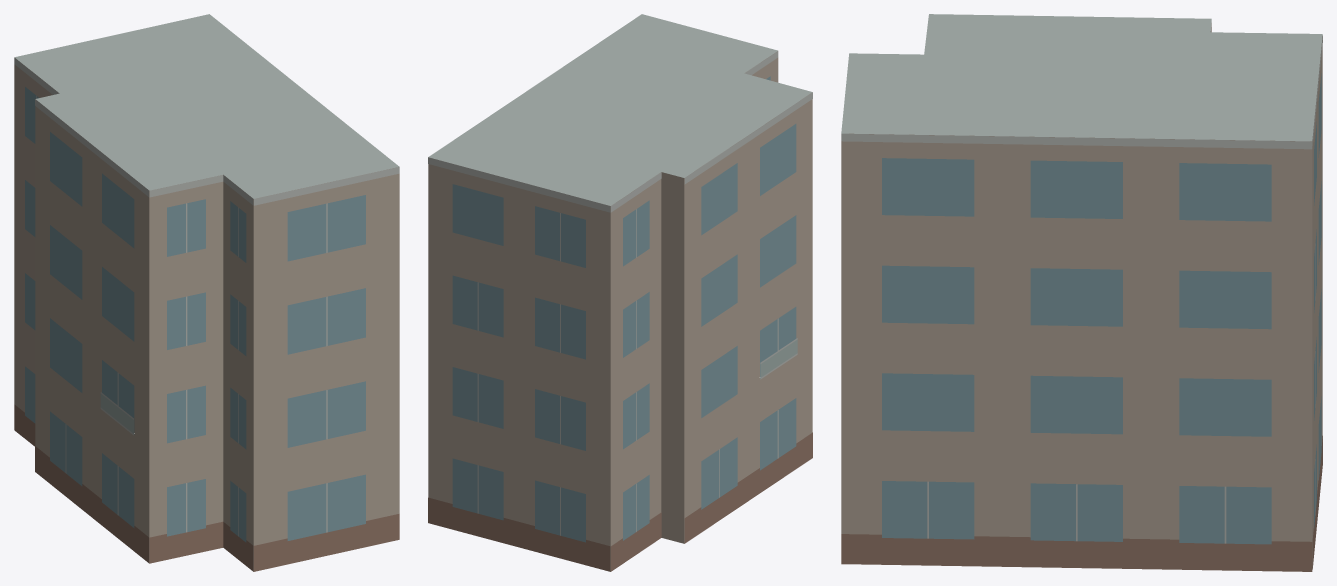
The model's file is survey-upis-32519699.glb.
3 renders of one model, left to right at view 1: azimuth 30°, elevation 25°; view 2: azimuth 150°, elevation 25°; view 3: azimuth 270°, elevation 25°, orthographic. The views are drawn at different scales.
Parts seen in each view (by area): view 1: survey-upis-32519699.tmp; view 2: survey-upis-32519699.tmp; view 3: survey-upis-32519699.tmp.
Boxes of the visible parts, left/top/right/bottom form: survey-upis-32519699.tmp: left=14, top=14, right=399, bottom=571; survey-upis-32519699.tmp: left=428, top=14, right=812, bottom=571; survey-upis-32519699.tmp: left=841, top=14, right=1322, bottom=571.
Size of the model in its own units: 8.45 by 13.3 by 13.49.
